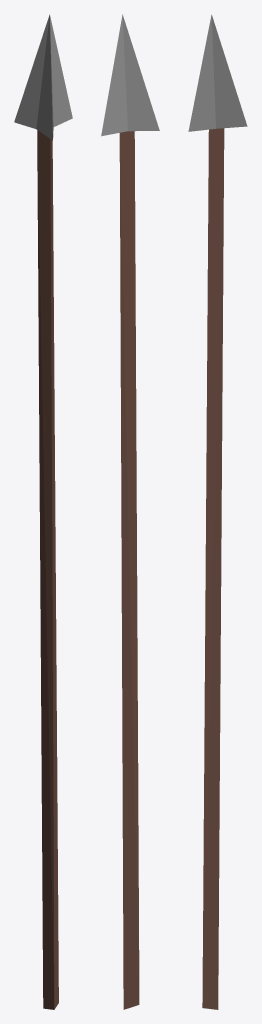
Rendered from arrow.fbx.
The picture shows the model from 3 angles, left to right: view 1: azimuth 90°, elevation 25°; view 2: azimuth 150°, elevation 25°; view 3: azimuth 270°, elevation 25°; orthographic projection.
Visible parts, largest first — view 1: group_721190349; view 2: group_721190349; view 3: group_721190349.
Part boxes in pixels (bbox=[...]): group_721190349: bbox=[14, 14, 72, 1009]; group_721190349: bbox=[101, 14, 159, 1009]; group_721190349: bbox=[188, 14, 247, 1009].
Bounding box in the file's own units: 4.9 × 95.14 × 5.11.
